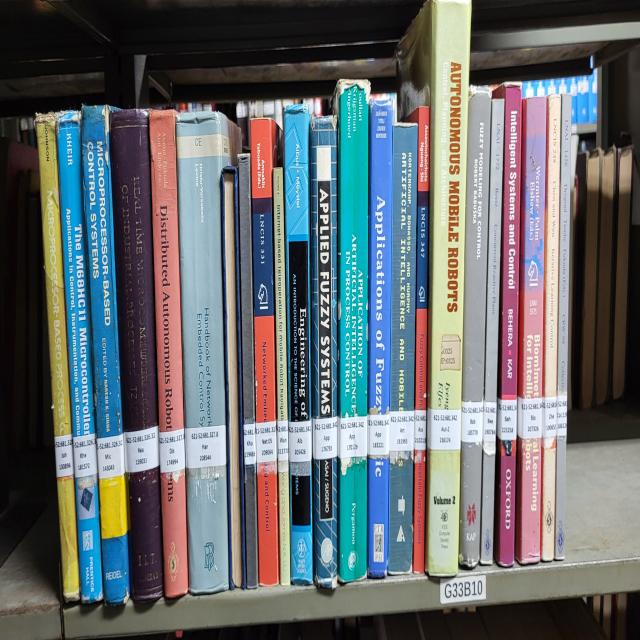Book: (398, 0, 471, 576), (175, 111, 240, 593), (110, 108, 164, 601), (81, 106, 130, 603), (56, 111, 102, 603), (36, 114, 80, 601), (149, 111, 189, 598), (336, 78, 370, 582), (459, 87, 491, 565), (515, 97, 546, 563), (284, 106, 312, 584), (310, 116, 338, 587), (389, 122, 418, 574), (495, 87, 521, 565), (368, 100, 392, 579), (480, 100, 504, 565), (541, 95, 561, 560), (238, 154, 259, 587), (274, 168, 291, 584), (254, 314, 279, 584), (412, 308, 428, 574)
Label: (185, 425, 226, 468), (124, 425, 159, 473), (96, 433, 125, 479), (428, 409, 461, 449), (339, 417, 368, 460), (159, 427, 185, 473), (72, 433, 98, 476), (312, 417, 338, 460), (389, 409, 414, 452), (461, 400, 484, 444), (289, 419, 311, 463), (518, 398, 542, 438), (368, 414, 390, 457), (496, 398, 518, 441), (55, 433, 74, 479), (256, 422, 276, 463), (482, 400, 496, 444), (276, 419, 289, 463), (542, 398, 556, 438), (244, 422, 256, 465), (414, 409, 426, 449)
